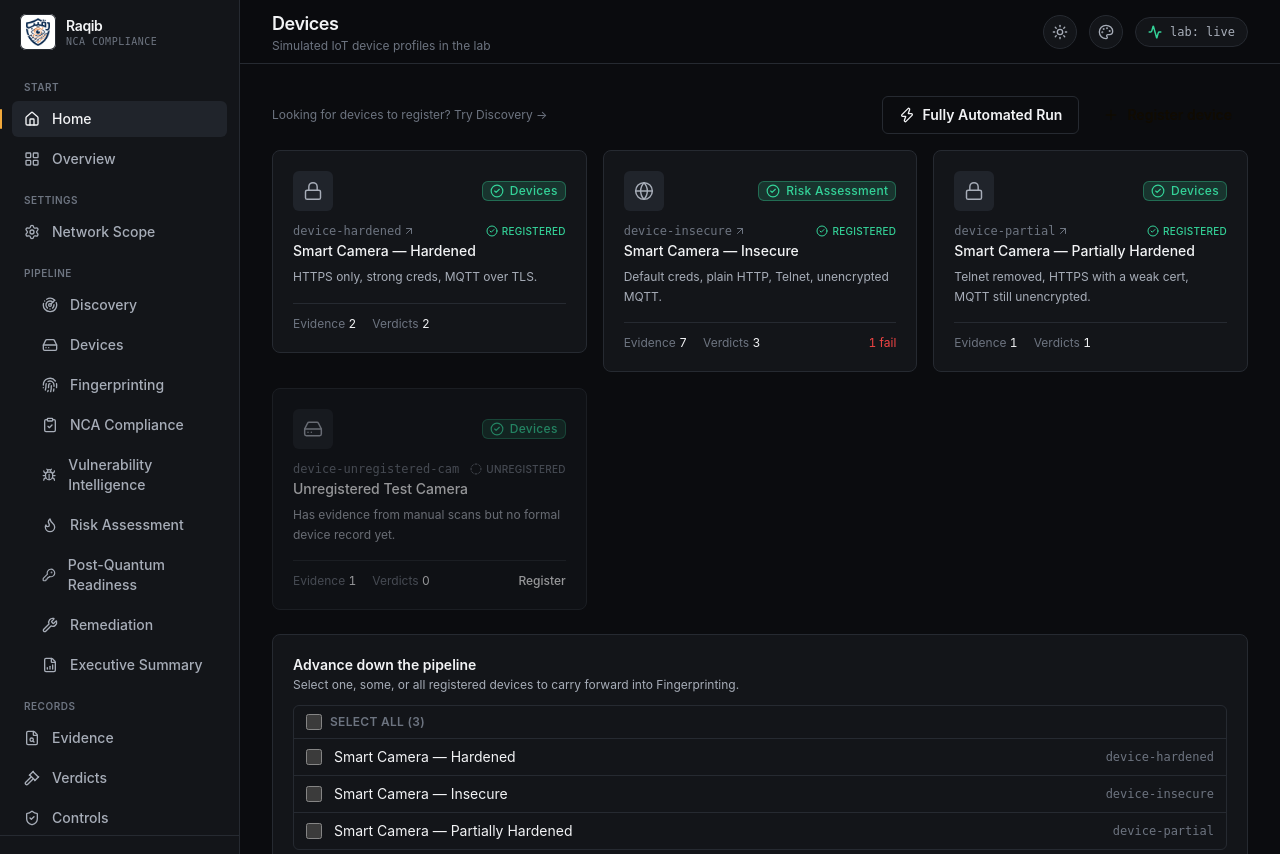
Test: DevicesPage › opens the registration form pre-filled with the device id when Register is clicked on an unregistered card
Check: the text "device-unregistered-cam" is shown, box [293,461,459,477]
Click the button "Register": point(542, 581) [518,573,566,589]
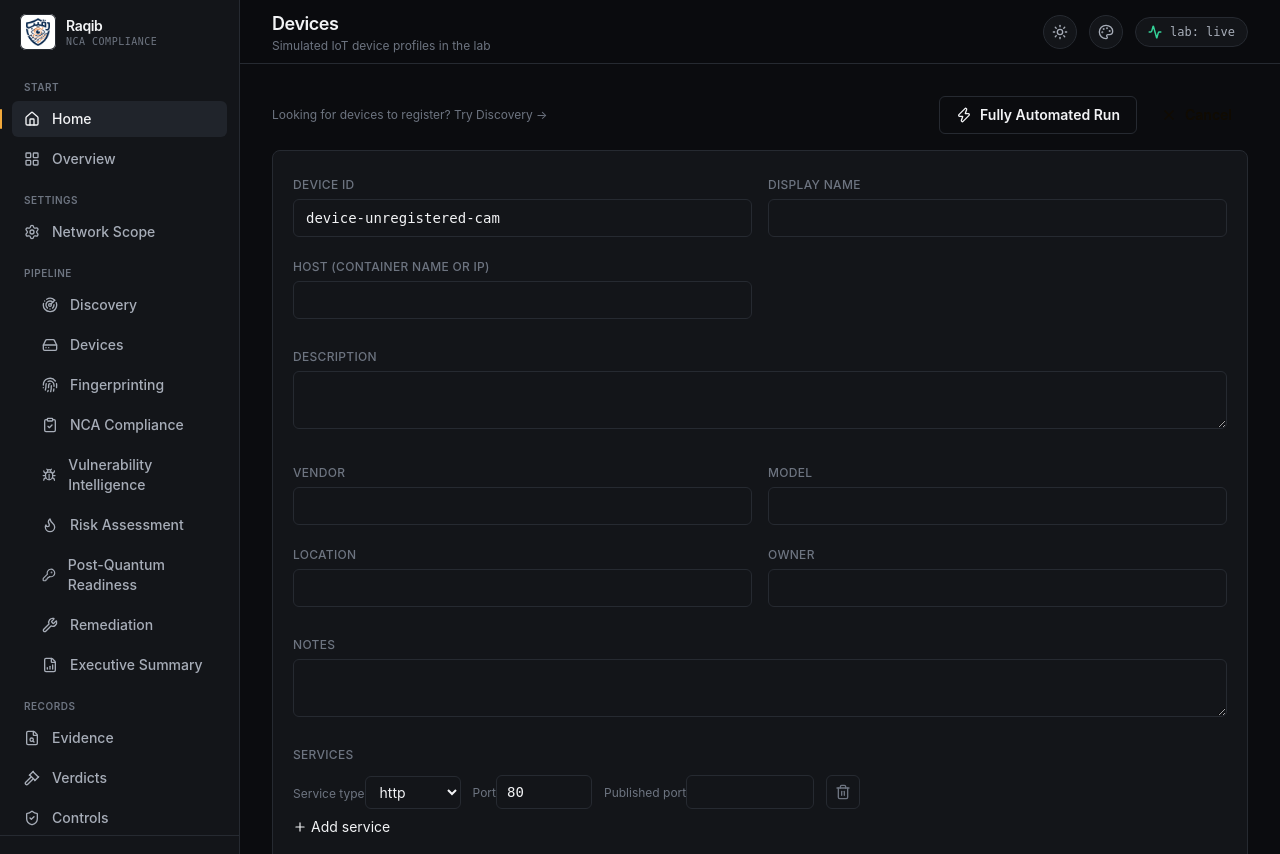
Check: the field labelled "Device ID" holds "device-unregistered-cam", box [293,199,752,237]
